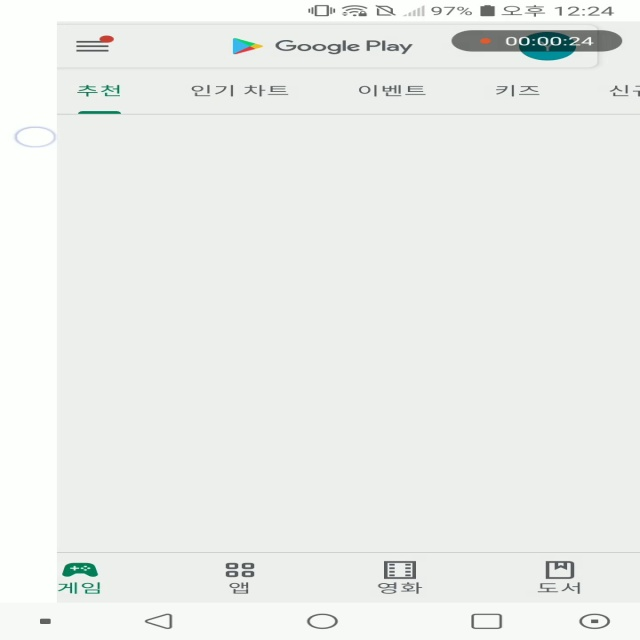Cursor: (15, 126, 59, 148)
